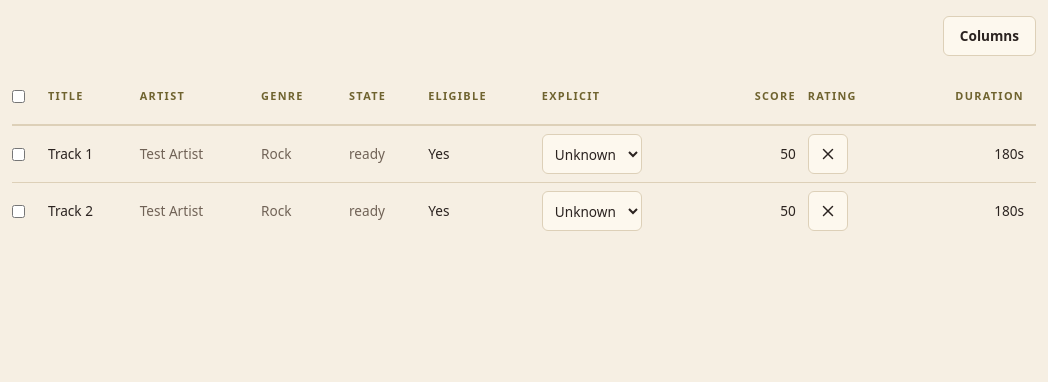
Test: Feature: Catalog selection toolbar and Libraries tab › Scenario: selection drives the toolbar › shows the contextual toolbar with the selection count when rows are selected
Click the checkbox named "Select Track 1". click: click(18, 154)
box: [12,148,25,160]
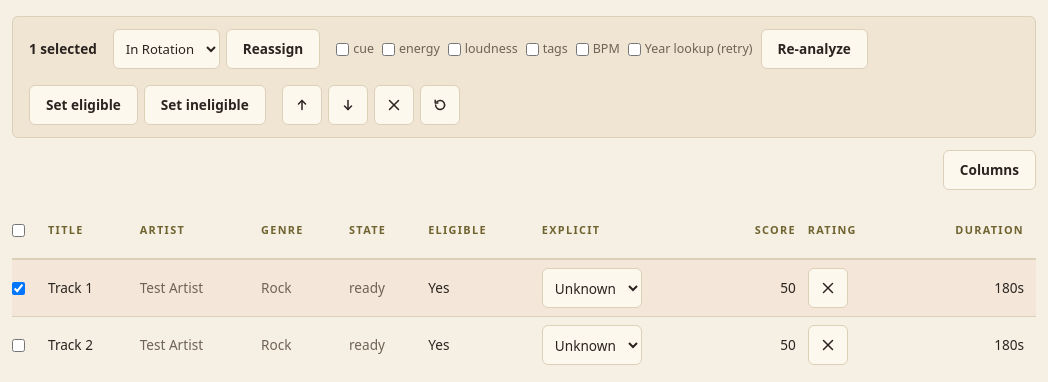
Result: the element named "Bulk actions" is shown at [12,16,1036,138]
Result: the text "1 selected" is shown at [29,39,97,59]
